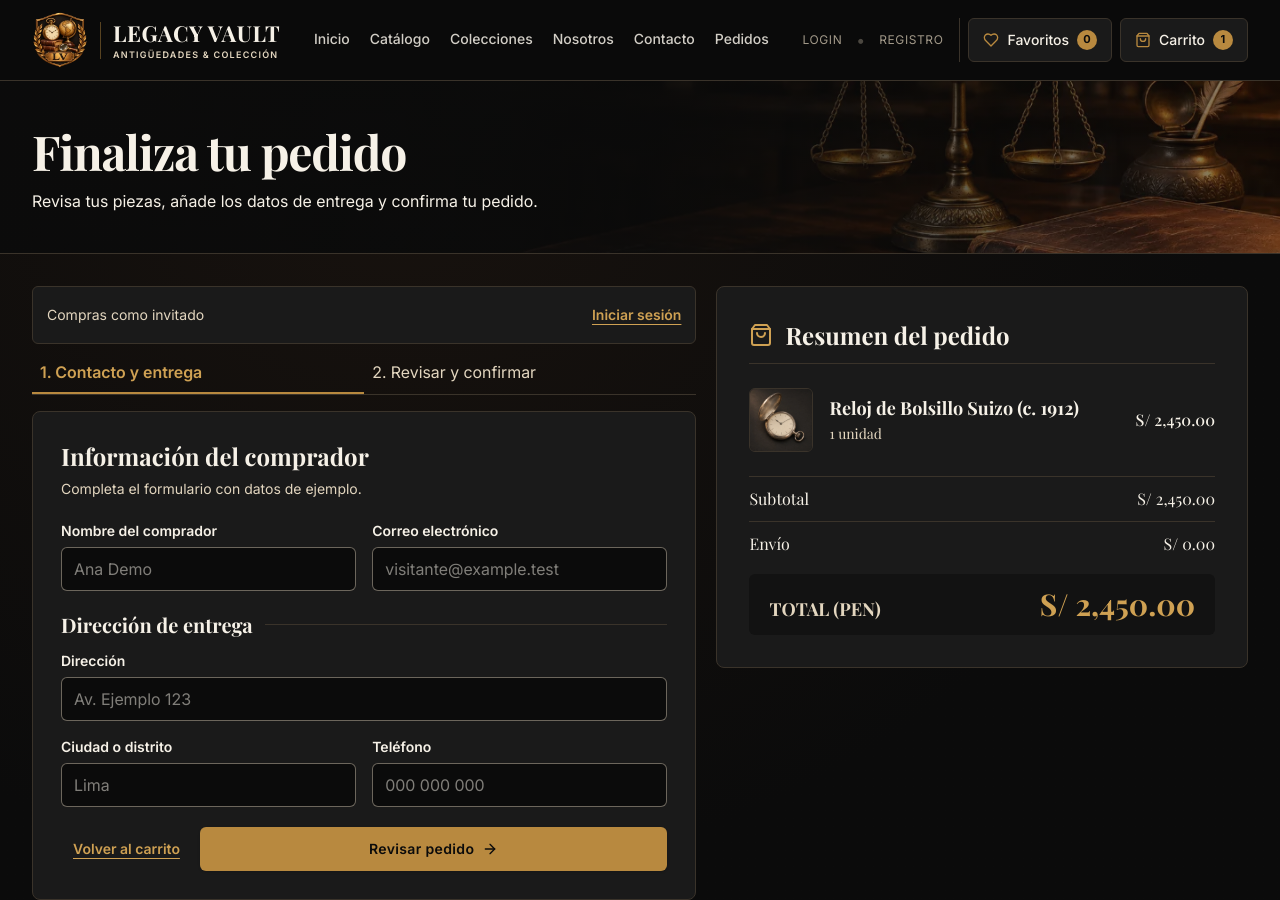
Test: Historial de pedidos simulados (OrdersPage & Checkout) › en checkout conserva la confirmación visible y comunica advertencia si el almacenamiento local falla
The width and height of the screenshot is (1280, 900).
Expected: the heading "Finaliza tu pedido" is shown, [32,119,406,183]
Type "María Cliente" into the field labelled "Nombre del comprador" at (209, 569), box [61,547,356,591]
Type "maria@ejemplo.com" into the field labelled "Correo electrónico" at (520, 569), box [372,547,667,591]
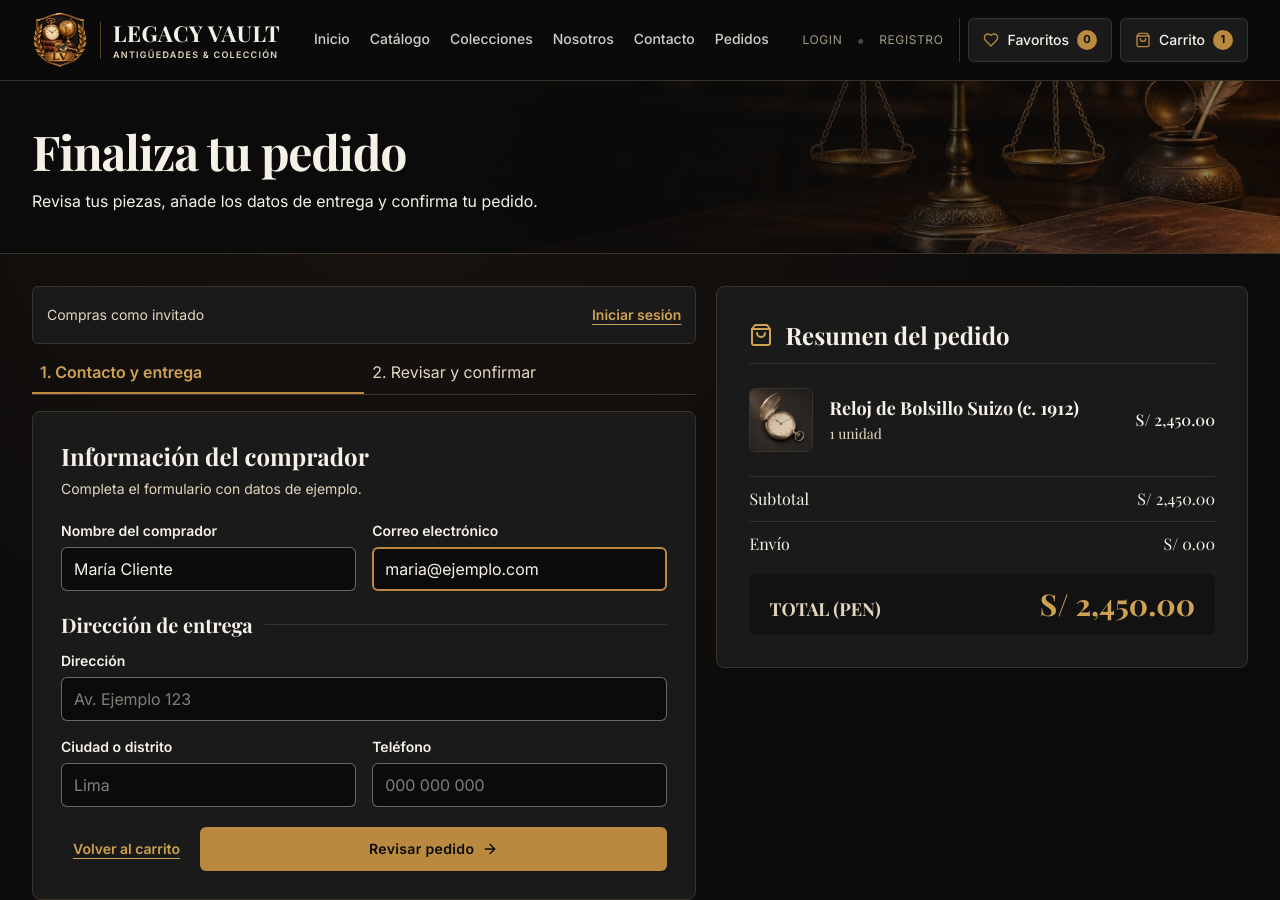
Type "Calle Los Cedros 123" into the field labelled "Dirección" at (364, 699), box [61,677,667,721]
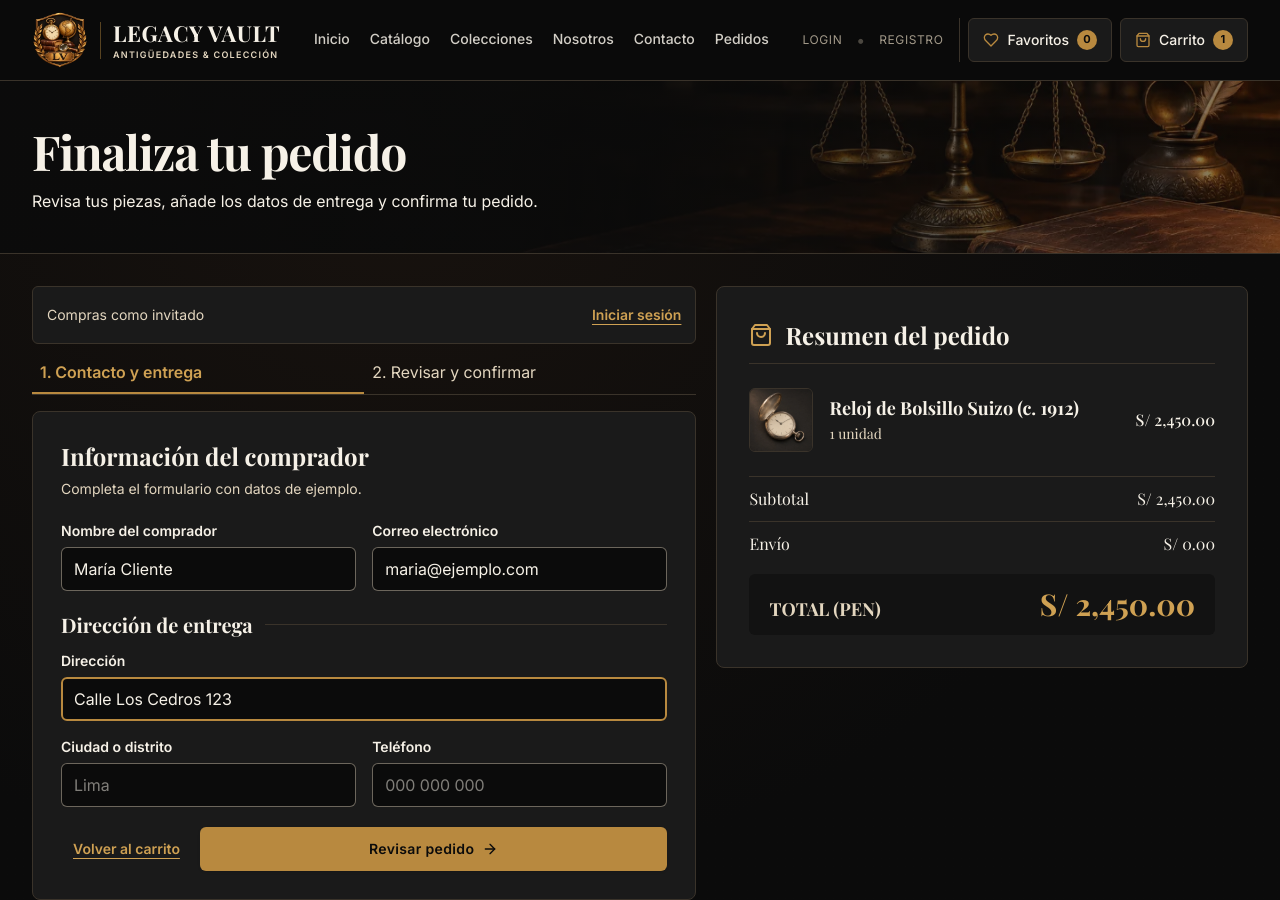
Type "Arequipa" into the field labelled "Ciudad o distrito" at (209, 785), box [61,763,356,807]
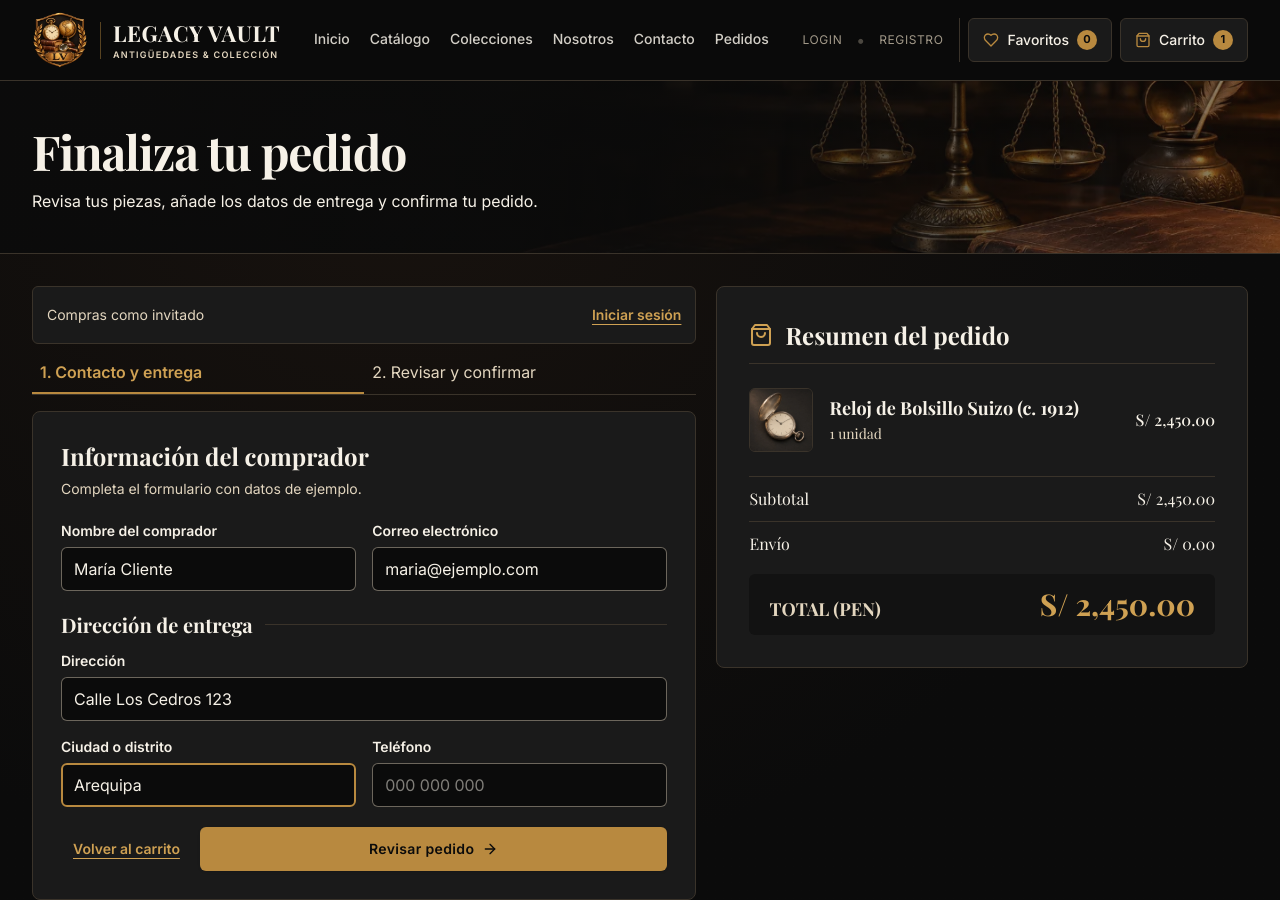
Type "987654321" into the field labelled "Teléfono" at (520, 785), box [372,763,667,807]
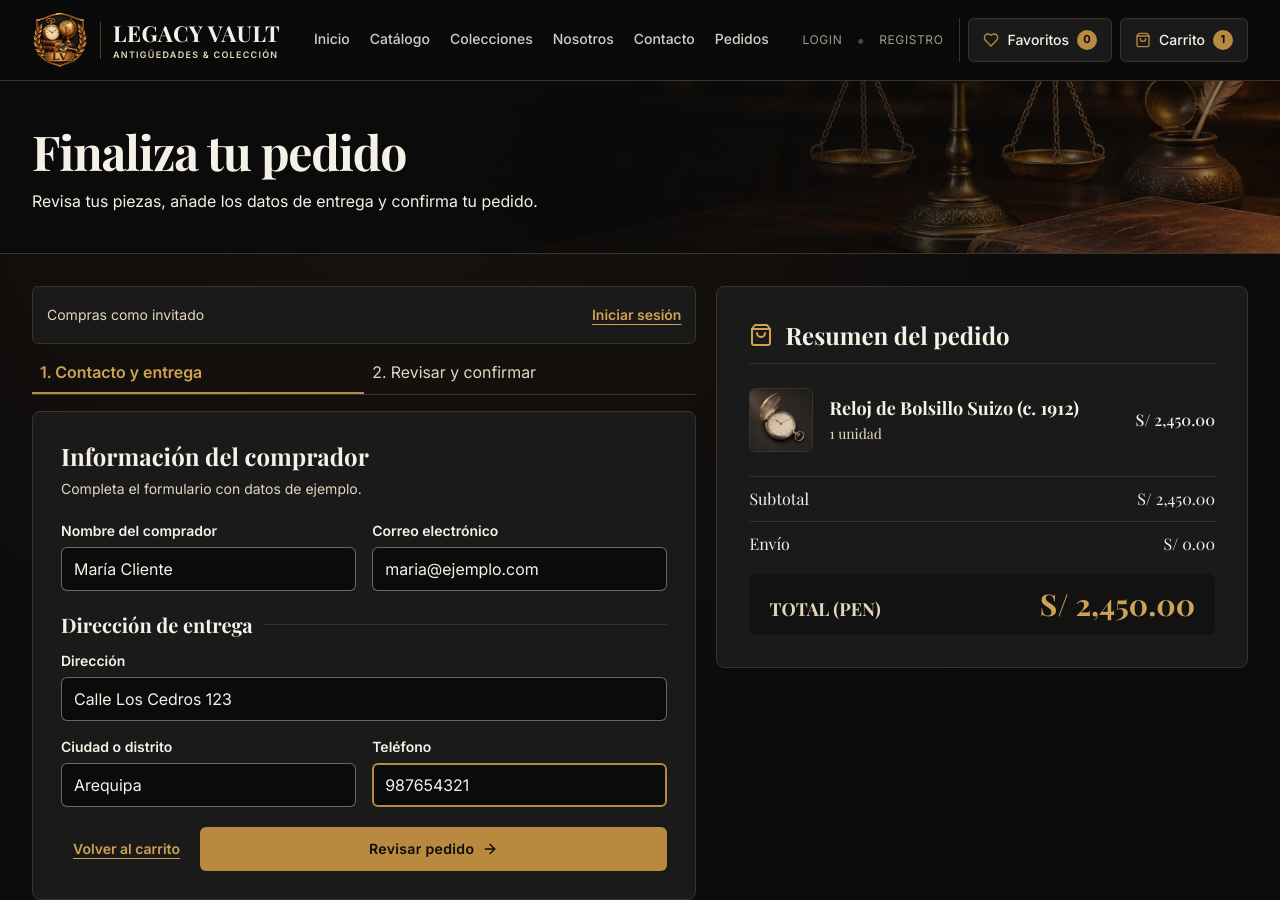
Click the button "Revisar pedido" at (434, 849), box [200,827,667,871]
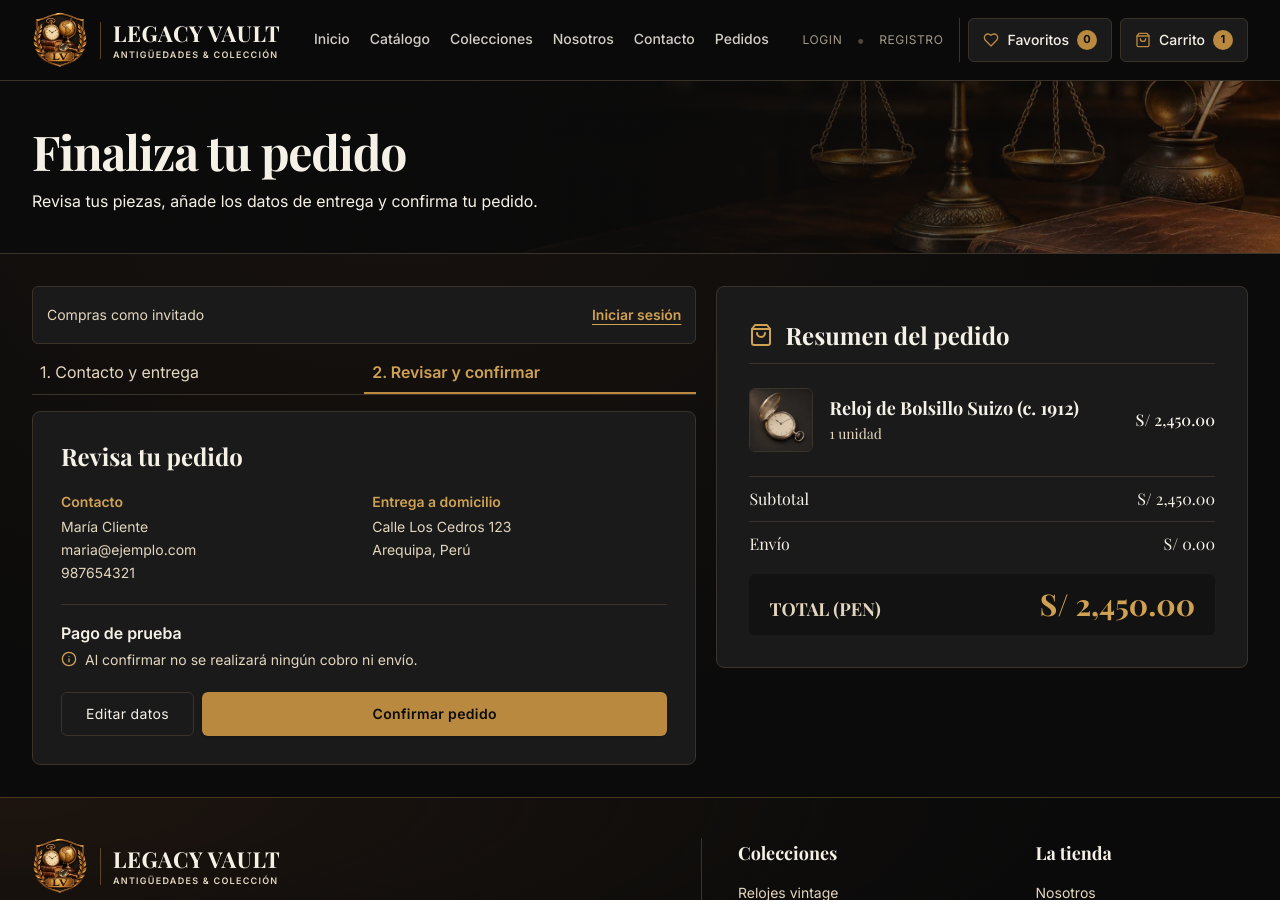
Click the button "Confirmar pedido" at (435, 714), box [202,692,668,736]
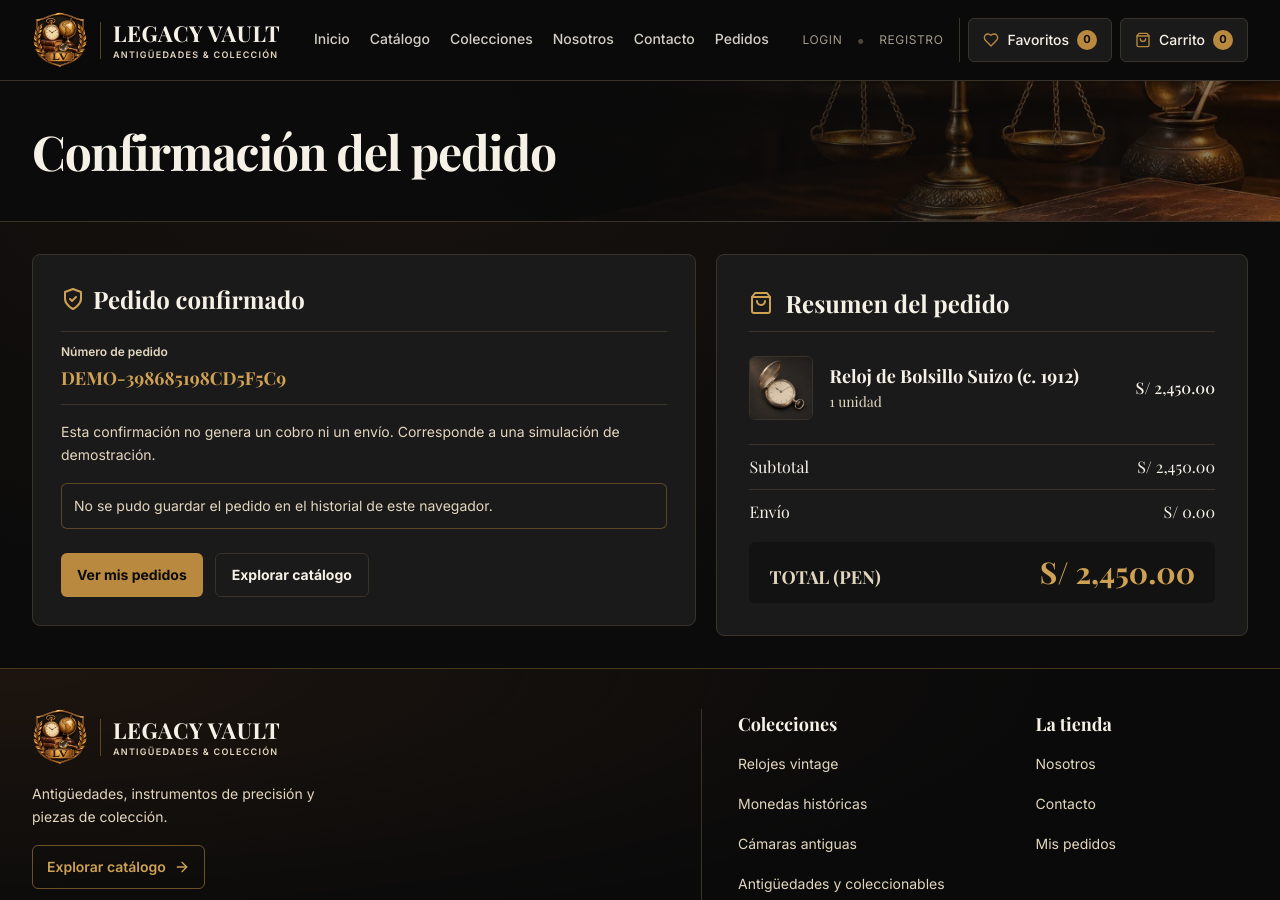
Expected: the heading "Pedido confirmado" is shown, [61,283,305,315]
Expected: the text "No se pudo guardar el pedido en el historial de este navegador." is shown, [61,482,667,528]
